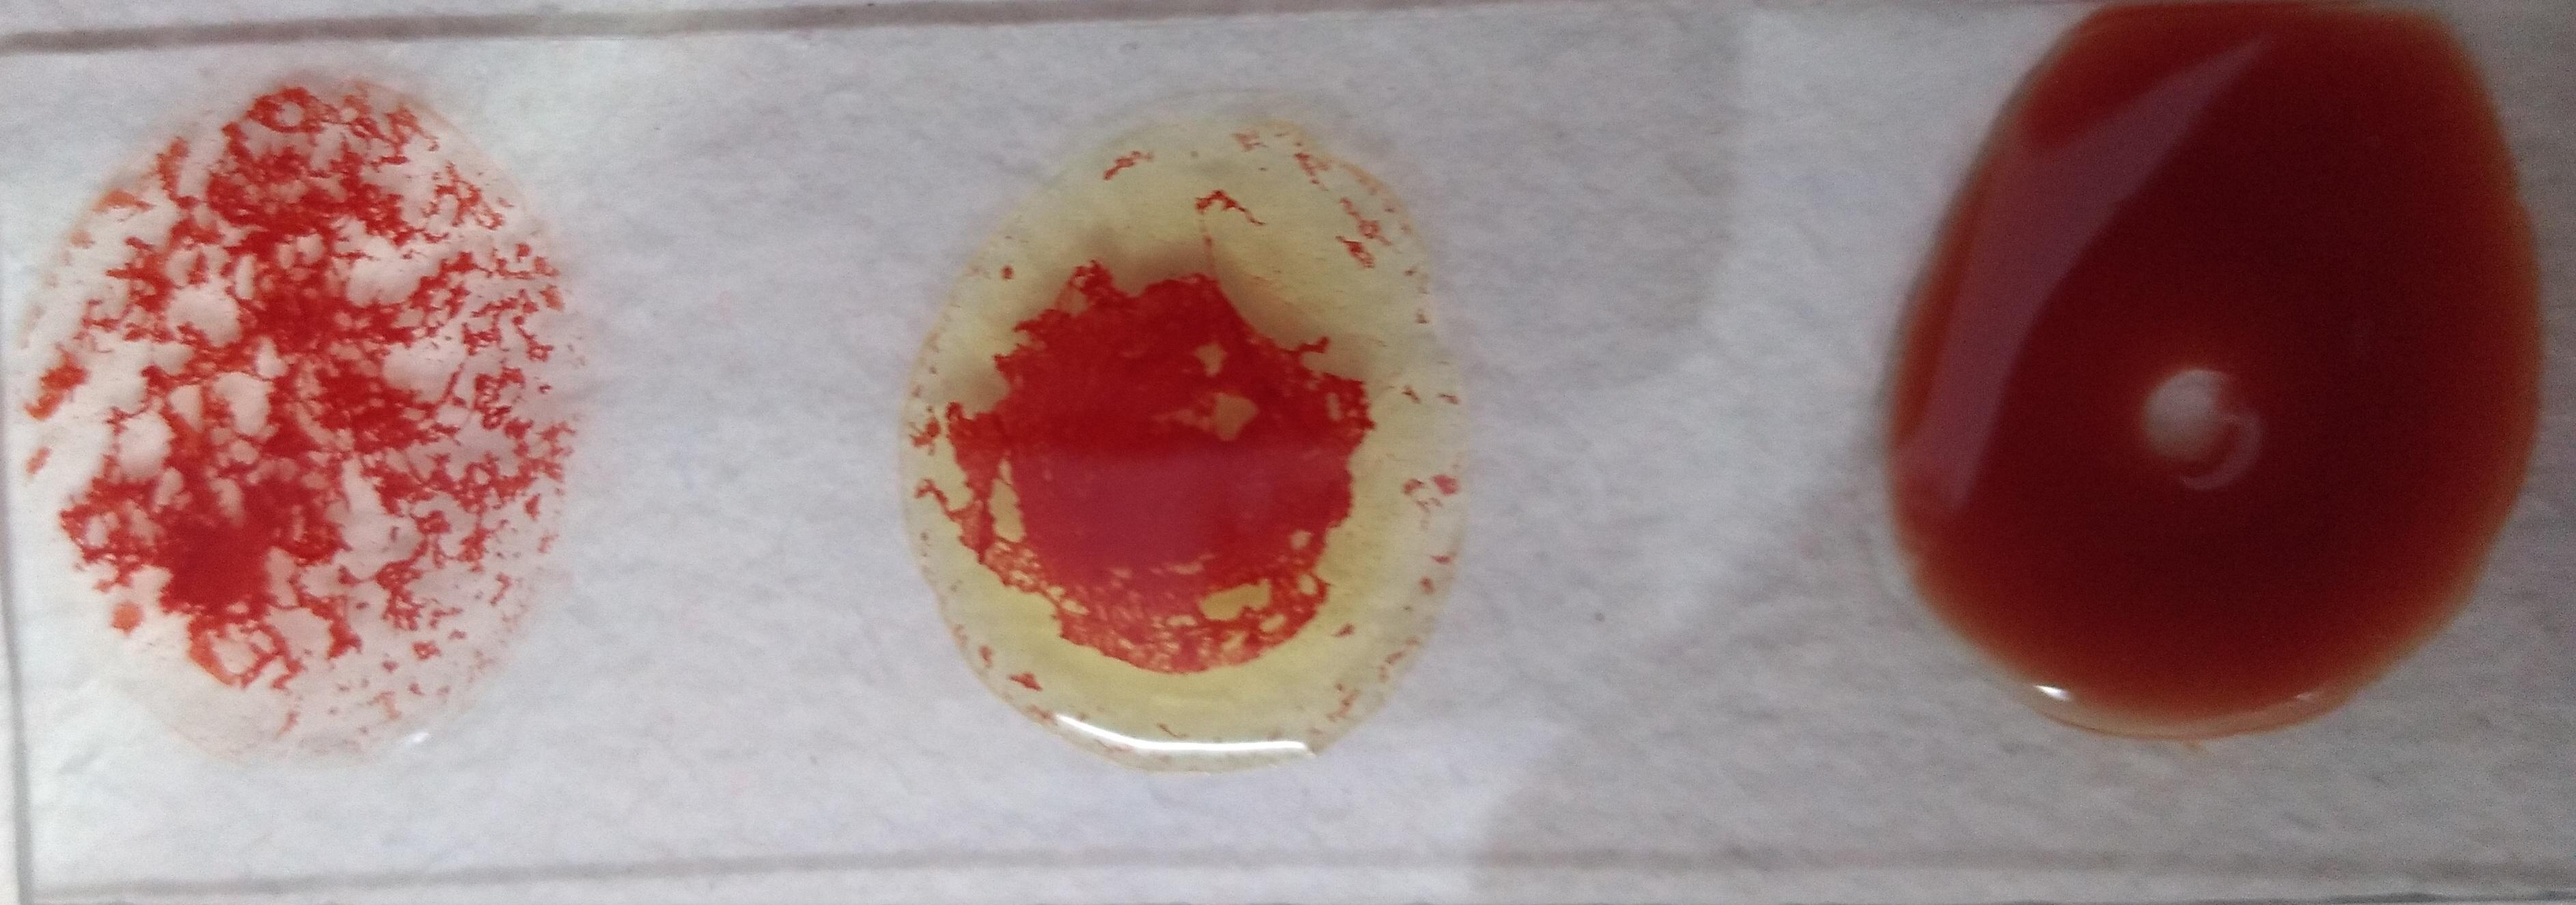B: (928, 113, 1470, 777)
D: (59, 66, 591, 742)
